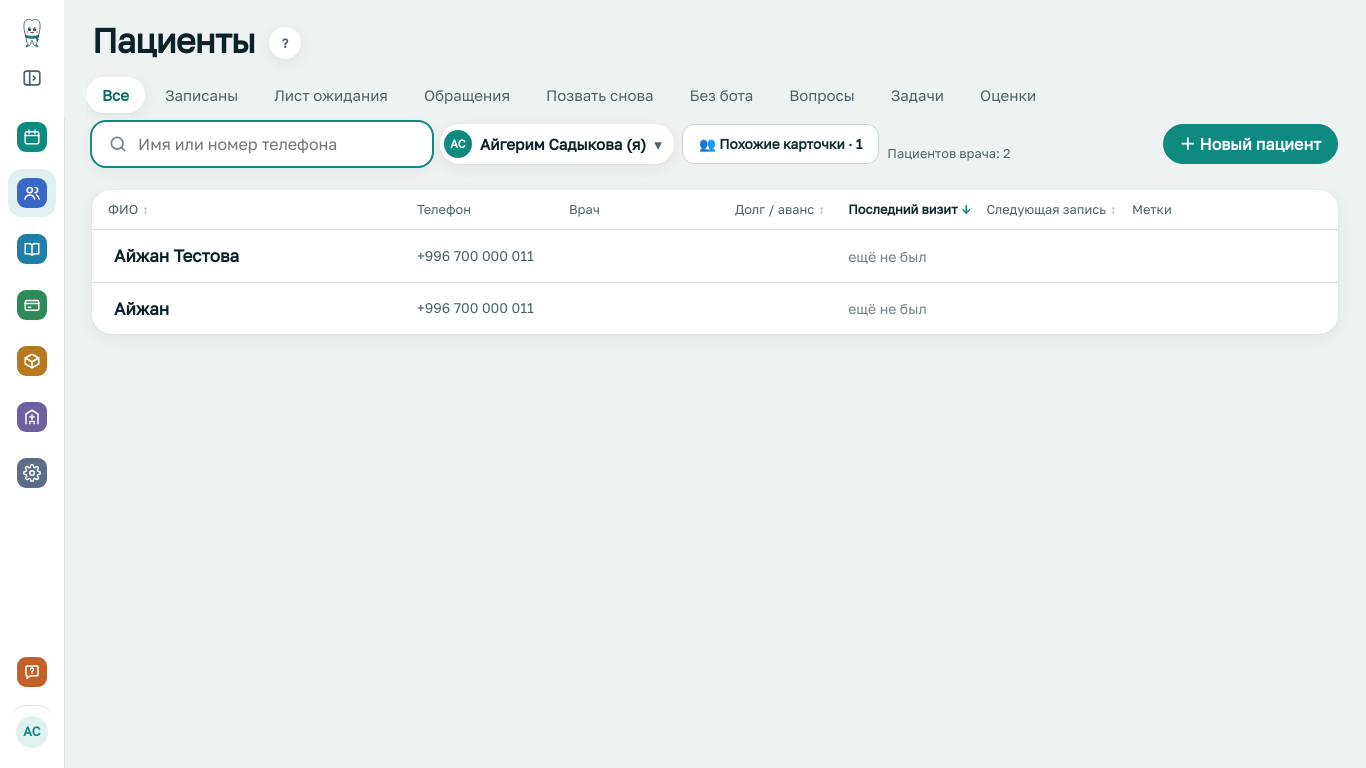
Scenario: «Пациенты»: руководителю — «👥 Похожие карточки · 1» и список пар с «Объединить…»
This screenshot has width=1366, height=768.
Click the button "👥 Похожие карточки · 1": (781,144) [682,124,879,164]
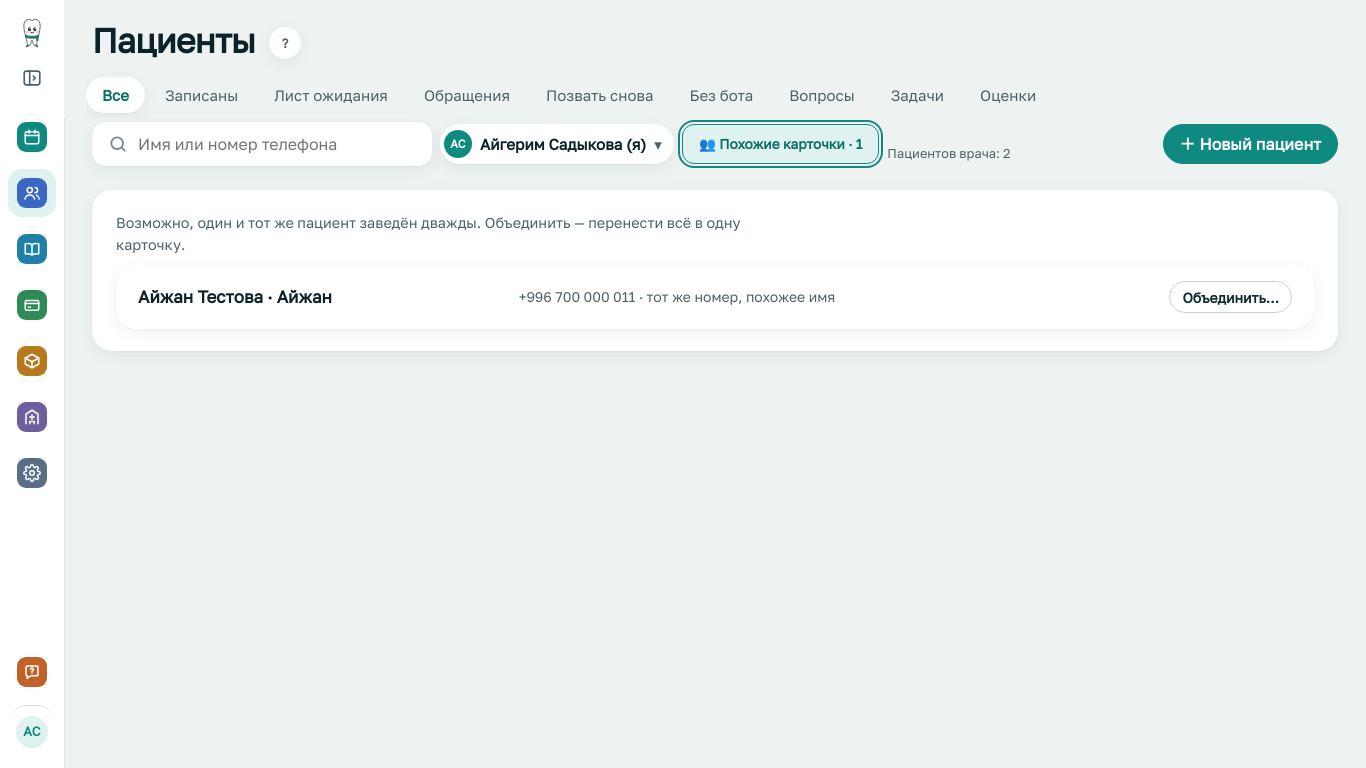
Result: the button "Объединить…" is shown at [1169,281,1292,313]
